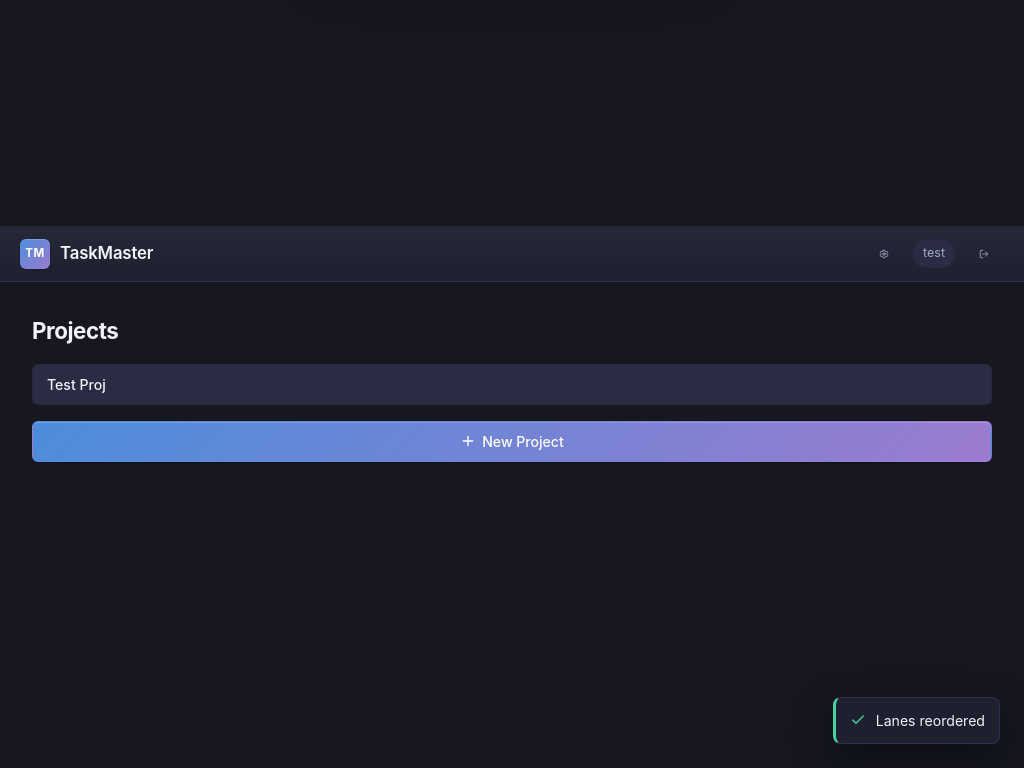
Test: App › task drag-over-task sends move with before/after anchors and expectedVersion
This screenshot has width=1024, height=768.
(page scrolled)
Click the button "Test Proj". click: (76, 384)
box: top-left (32, 364), bottom-right (992, 405)
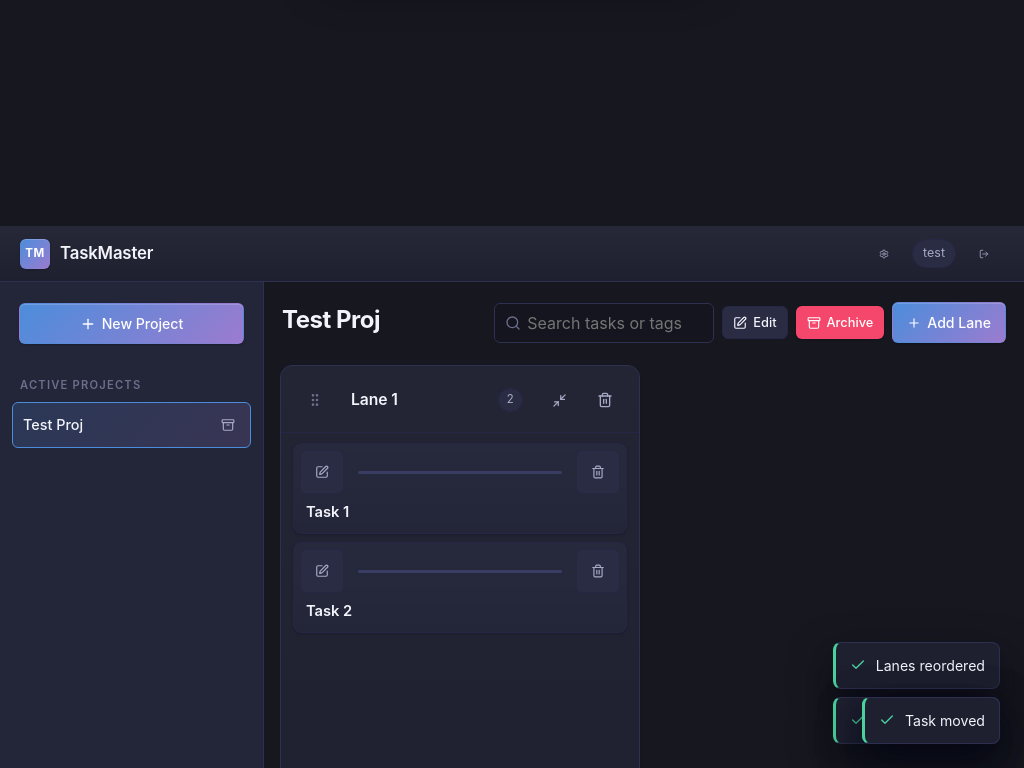
expect the text "Task 1" is shown: met, box top-left (306, 503), bottom-right (349, 521)
expect the text "Task 2" is shown: met, box top-left (306, 602), bottom-right (352, 620)
